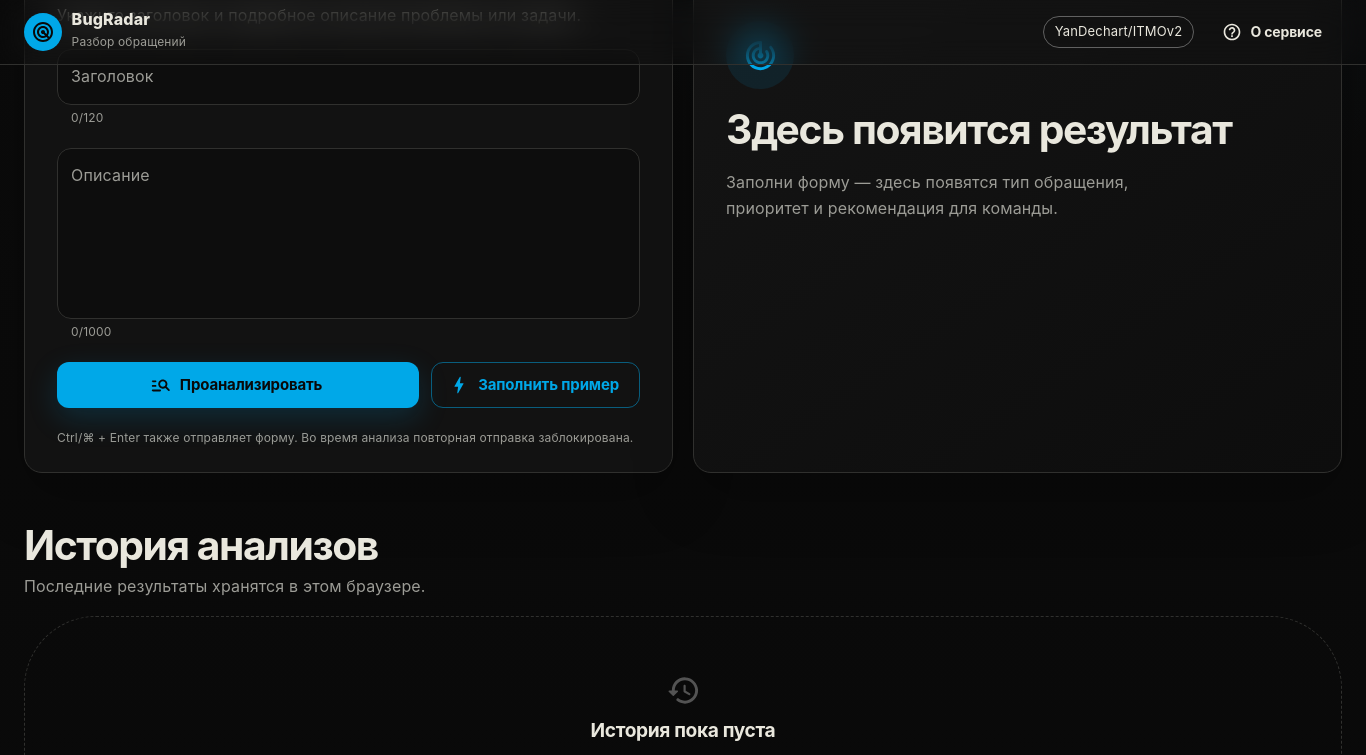
it: BugRadar › проверяет обязательные поля и некорректно короткие значения
The width and height of the screenshot is (1366, 755).
(page scrolled)
Click the button "Проанализировать". click: click(238, 385)
box: [57,362,419,408]
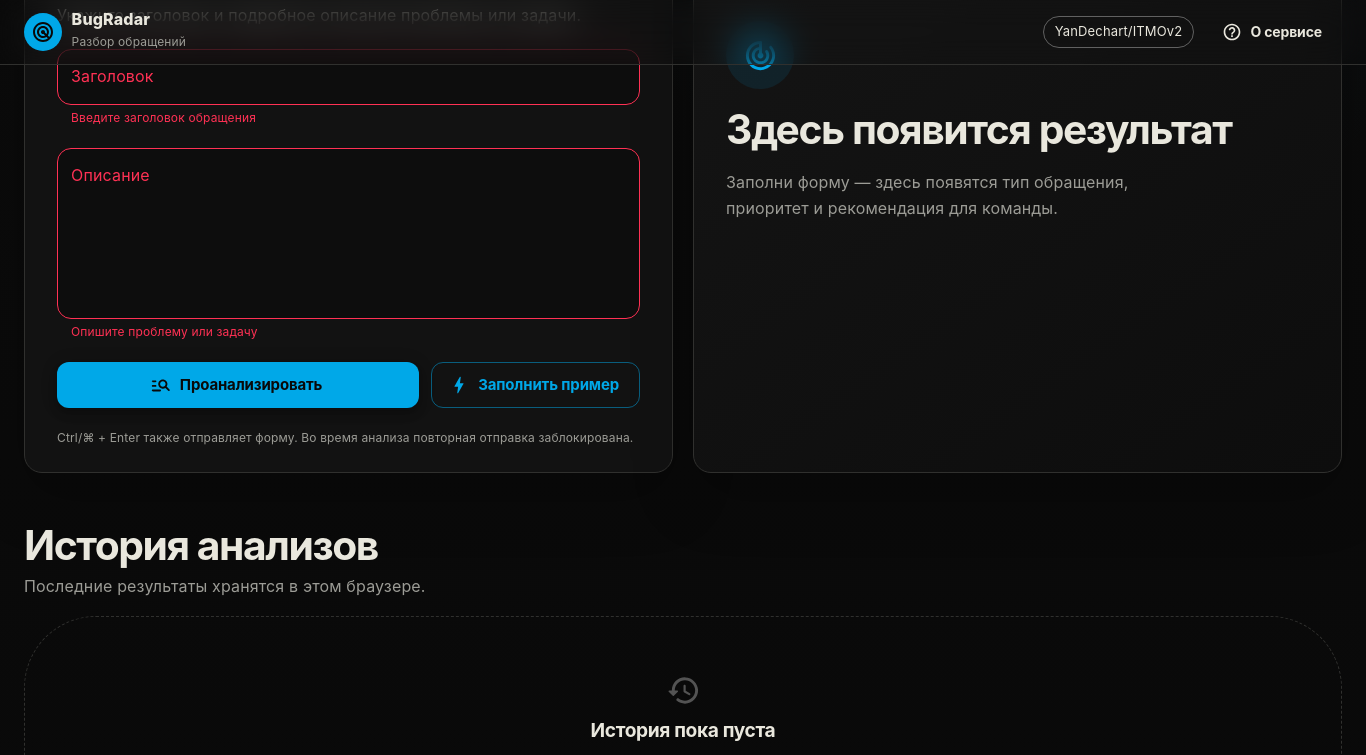
Now the text "Введите заголовок обращения" is shown, box [71,110,256,125]
Now the text "Опишите проблему или задачу" is shown, box [71,324,258,339]
Type "Ошибка" into the field labelled "Заголовок". click: (348, 77)
box: [57,49,640,105]
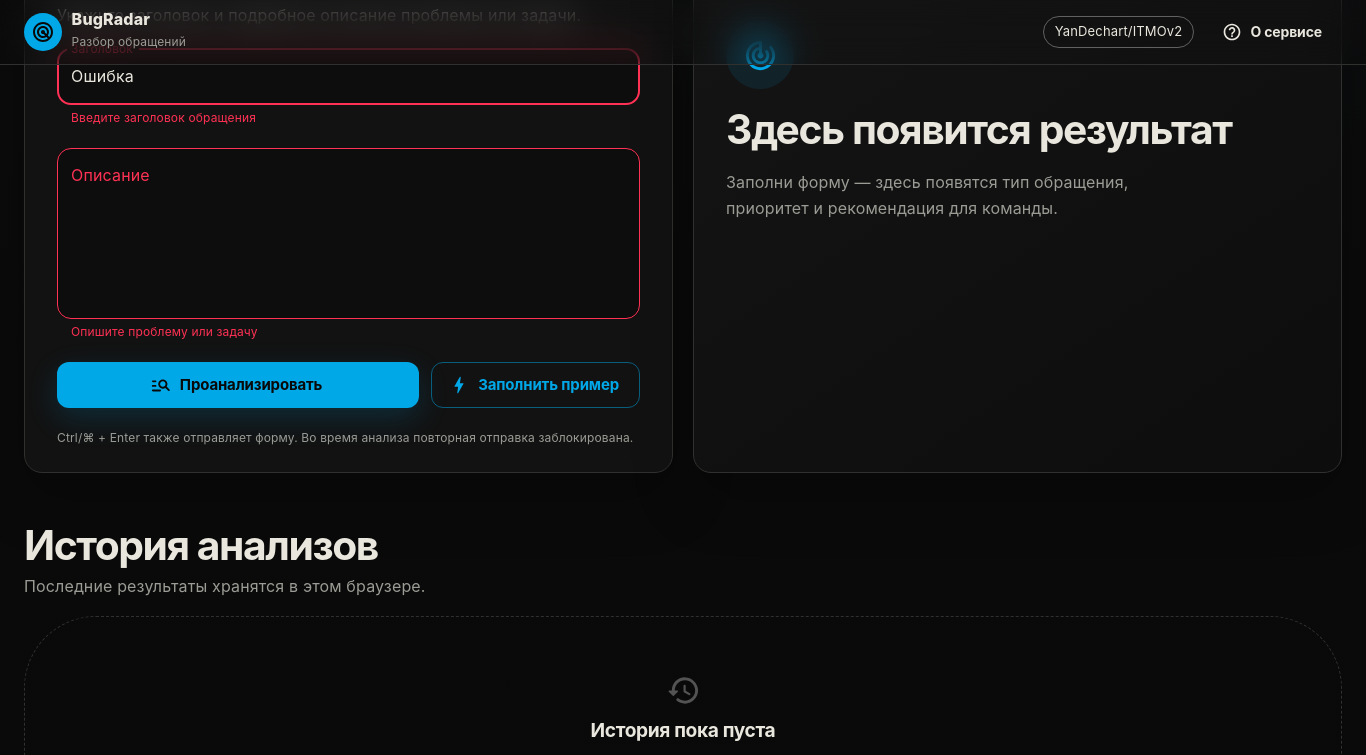
Type "Слишком коротко" into the text box labelled "Описание". click: (348, 233)
box: [71,164,626,302]
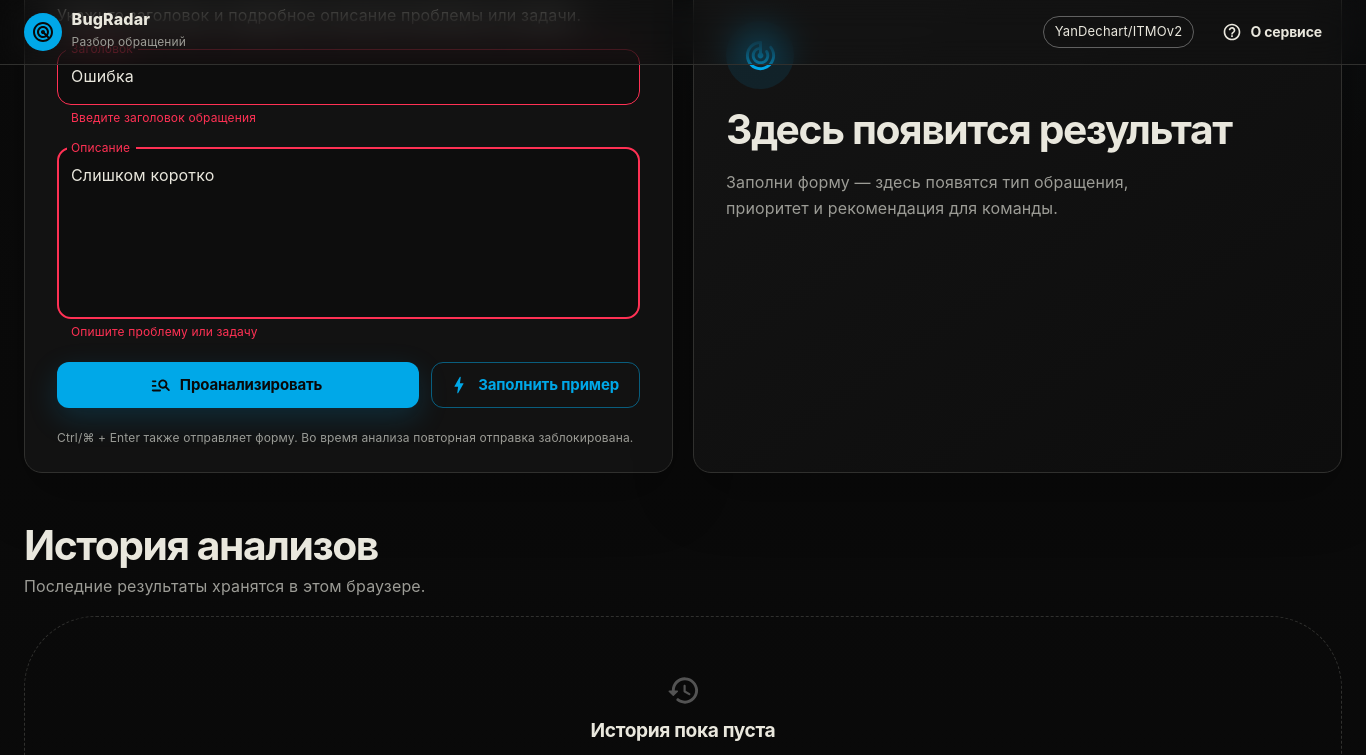
Click the button "Проанализировать". click: click(238, 385)
box: [57,362,419,408]
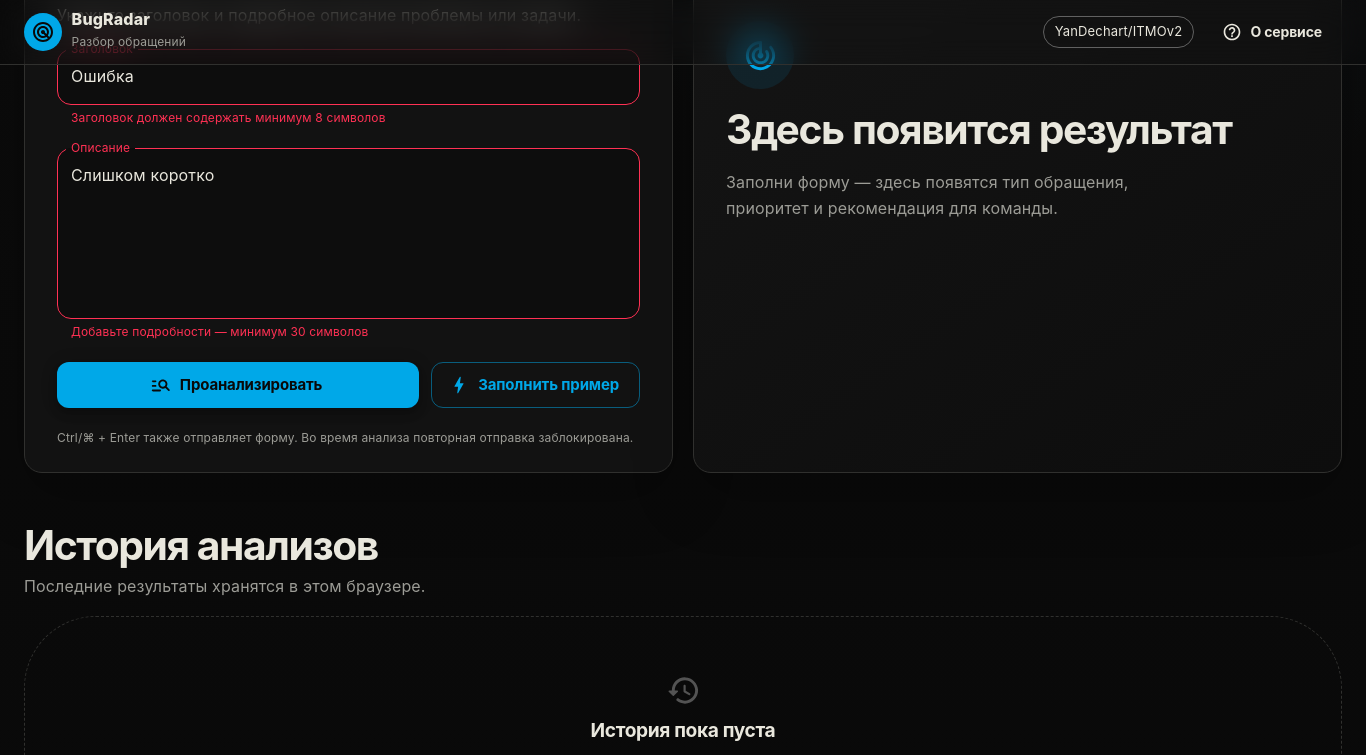
Now the text "Заголовок должен содержать минимум 8 символов" is shown, box [71,110,386,125]
Now the text "Добавьте подробности — минимум 30 символов" is shown, box [71,324,368,339]
